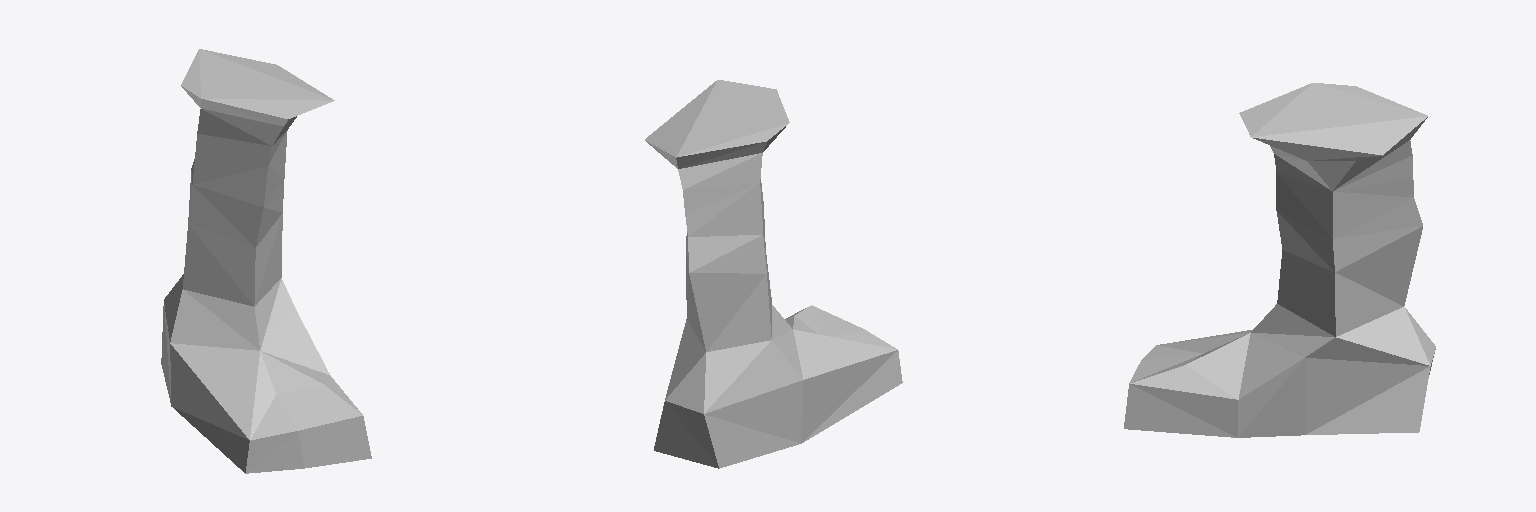
The model's file is piernaDerechaGumball.obj.
The picture shows the model from 3 angles: view 1: azimuth 30°, elevation 25°; view 2: azimuth 150°, elevation 25°; view 3: azimuth 270°, elevation 25°; orthographic projection.
Parts seen in each view (by area): view 1: piernaDerecha; view 2: piernaDerecha; view 3: piernaDerecha.
Part boxes in pixels (x1,y1,x2,y2): piernaDerecha: (161,49,371,473); piernaDerecha: (645,80,902,468); piernaDerecha: (1124,83,1435,437).
Bounding box in the file's own units: 1.01 × 2.06 × 1.89.